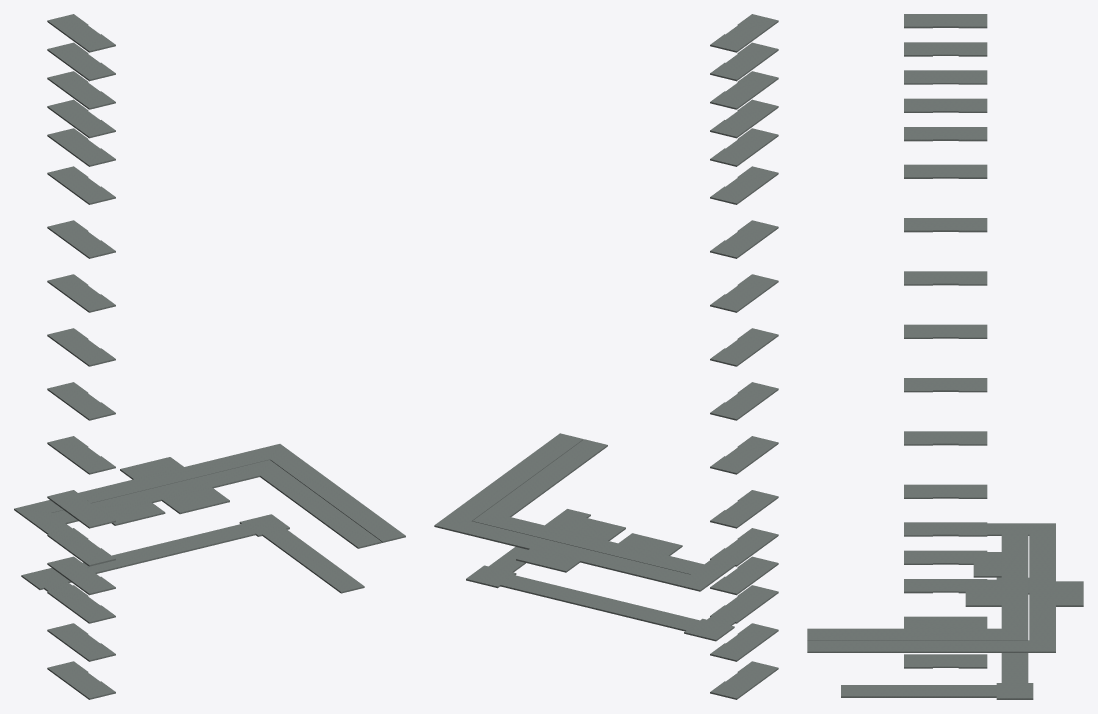
Rendered from AST-STF-G3-041.glb.
3 renders of one model, left to right at view 1: azimuth 30°, elevation 25°; view 2: azimuth 150°, elevation 25°; view 3: azimuth 270°, elevation 25°, orthographic.
Parts seen in each view (by area): view 1: floor_staff_floor_D05, floor_staff_floor_D03, floor_staff_floor_D13, floor_staff_floor_D01, floor_staff_floor_D02, floor_staff_floor_D07, floor_staff_floor_D11, floor_staff_floor_D12, floor_staff_floor_D17, floor_staff_floor_D04, floor_staff_floor_D08, floor_staff_floor_D10 (+5 smaller); view 2: floor_staff_floor_D05, floor_staff_floor_D03, floor_staff_floor_D13, floor_staff_floor_D01, floor_staff_floor_D17, floor_staff_floor_D07, floor_staff_floor_D11, floor_staff_floor_D16, floor_staff_floor_D02, floor_staff_floor_D04, floor_staff_floor_D06, floor_staff_floor_D08 (+5 smaller); view 3: floor_staff_floor_D05, floor_staff_floor_D03, floor_staff_floor_D07, floor_staff_floor_D10, floor_staff_floor_D15, floor_staff_floor_D06, floor_staff_floor_D09, floor_staff_floor_D12, floor_staff_floor_D14, floor_staff_floor_D01, floor_staff_floor_D16, floor_staff_floor_D08 (+5 smaller).
Part boxes in pixels (x1,y1,x2,y2): floor_staff_floor_D05: [14, 444, 405, 566]; floor_staff_floor_D03: [21, 514, 364, 623]; floor_staff_floor_D13: [47, 128, 115, 166]; floor_staff_floor_D01: [47, 661, 115, 699]; floor_staff_floor_D02: [47, 623, 115, 661]; floor_staff_floor_D07: [47, 436, 115, 474]; floor_staff_floor_D11: [47, 220, 115, 258]; floor_staff_floor_D12: [47, 166, 115, 204]; floor_staff_floor_D17: [47, 14, 115, 52]; floor_staff_floor_D04: [47, 556, 115, 595]; floor_staff_floor_D08: [47, 382, 115, 420]; floor_staff_floor_D10: [47, 274, 115, 312]; floor_staff_floor_D05: [434, 433, 778, 591]; floor_staff_floor_D03: [466, 509, 778, 641]; floor_staff_floor_D13: [710, 128, 778, 166]; floor_staff_floor_D01: [710, 661, 778, 699]; floor_staff_floor_D17: [710, 14, 778, 52]; floor_staff_floor_D07: [710, 436, 778, 474]; floor_staff_floor_D11: [710, 220, 778, 258]; floor_staff_floor_D16: [710, 42, 778, 81]; floor_staff_floor_D02: [710, 623, 778, 661]; floor_staff_floor_D04: [710, 556, 778, 595]; floor_staff_floor_D06: [710, 490, 778, 528]; floor_staff_floor_D08: [710, 382, 778, 420]; floor_staff_floor_D05: [807, 522, 1083, 652]; floor_staff_floor_D03: [841, 577, 1033, 699]; floor_staff_floor_D07: [904, 431, 987, 445]; floor_staff_floor_D10: [904, 271, 987, 285]; floor_staff_floor_D15: [904, 70, 987, 84]; floor_staff_floor_D06: [904, 484, 987, 498]; floor_staff_floor_D09: [904, 324, 987, 338]; floor_staff_floor_D12: [904, 164, 987, 178]; floor_staff_floor_D14: [904, 98, 987, 112]; floor_staff_floor_D01: [904, 654, 987, 668]; floor_staff_floor_D16: [904, 42, 987, 56]; floor_staff_floor_D08: [904, 378, 987, 392].
Size of the model in its own units: 44.58 by 102 by 39.94.
Materials: 1 (1 with a texture image).
